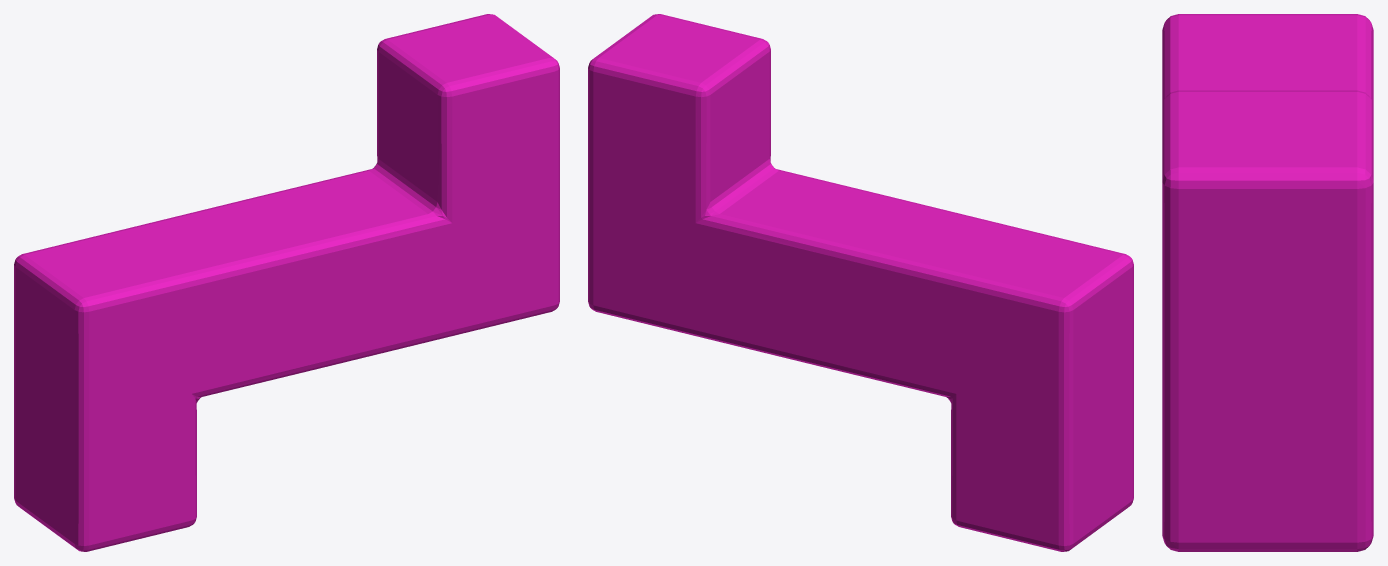
Rendered from Mystic.fbx.
3 views of the same model, side by side, from view 1: azimuth 30°, elevation 25°; view 2: azimuth 150°, elevation 25°; view 3: azimuth 270°, elevation 25° (orthographic). The views are drawn at different scales.
Visible parts, largest first — view 1: Mystic; view 2: Mystic; view 3: Mystic.
Part boxes in pixels (x1,y1,x2,y2): Mystic: [14, 14, 559, 551]; Mystic: [588, 14, 1133, 551]; Mystic: [1162, 14, 1373, 551].
Bounding box in the file's own units: 800 × 600 × 200.
